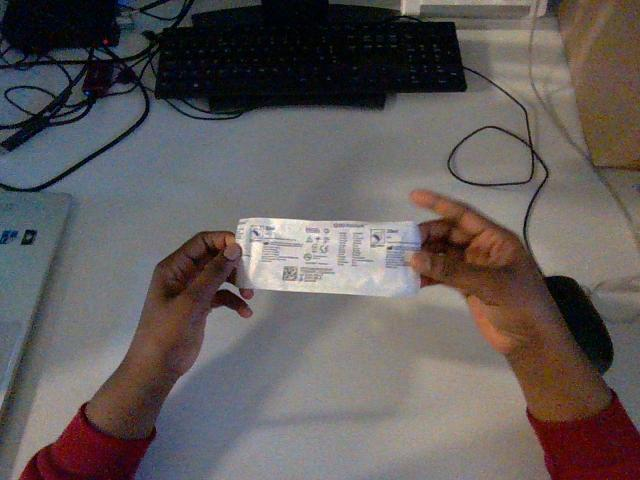syringe: (236, 218, 420, 296)
